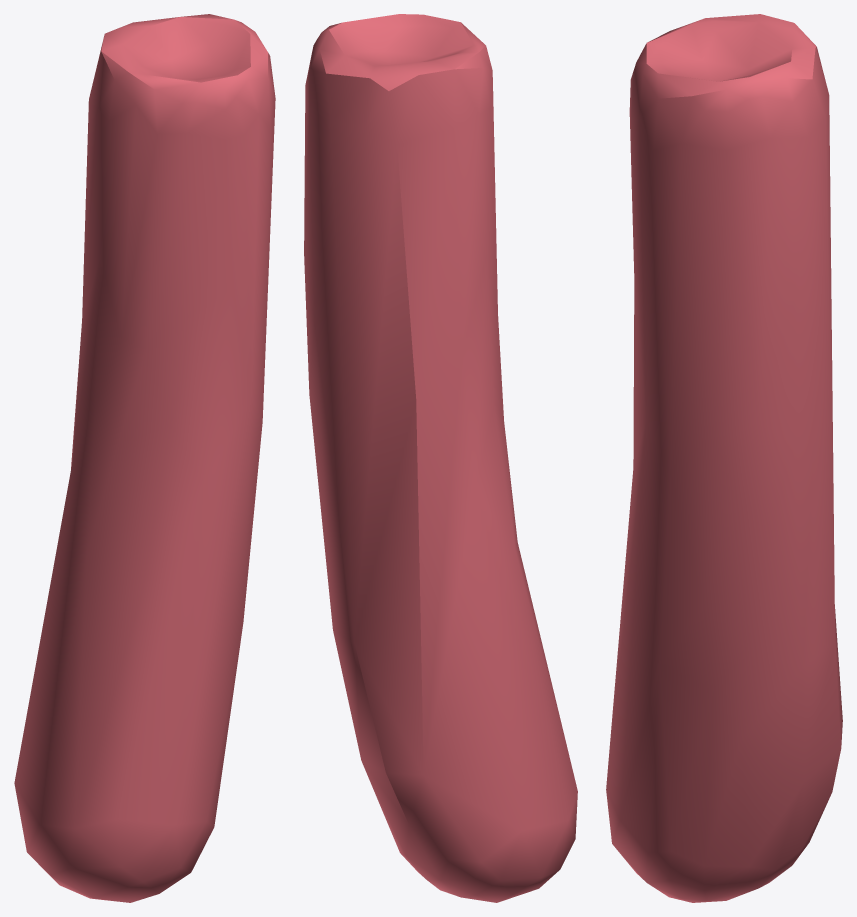
Rendered from fma4762_fj3485.glb.
The picture shows the model from 3 angles, left to right: view 1: azimuth 30°, elevation 25°; view 2: azimuth 150°, elevation 25°; view 3: azimuth 270°, elevation 25°; orthographic projection. The views are drawn at different scales.
Visible parts, largest first — view 1: FMA4762_FJ3485; view 2: FMA4762_FJ3485; view 3: FMA4762_FJ3485.
Boxes of the visible parts, left/top/right/bottom form: FMA4762_FJ3485: left=14, top=14, right=275, bottom=902; FMA4762_FJ3485: left=304, top=14, right=577, bottom=902; FMA4762_FJ3485: left=606, top=14, right=842, bottom=902.
Size of the model in its own units: 0.0128 by 0.043 by 0.0104.
